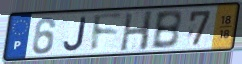6: (31, 16, 57, 56)
7: (188, 9, 212, 48)
B: (150, 9, 184, 51)
F: (89, 13, 124, 54)
H: (119, 9, 155, 52)
J: (62, 16, 88, 53)
